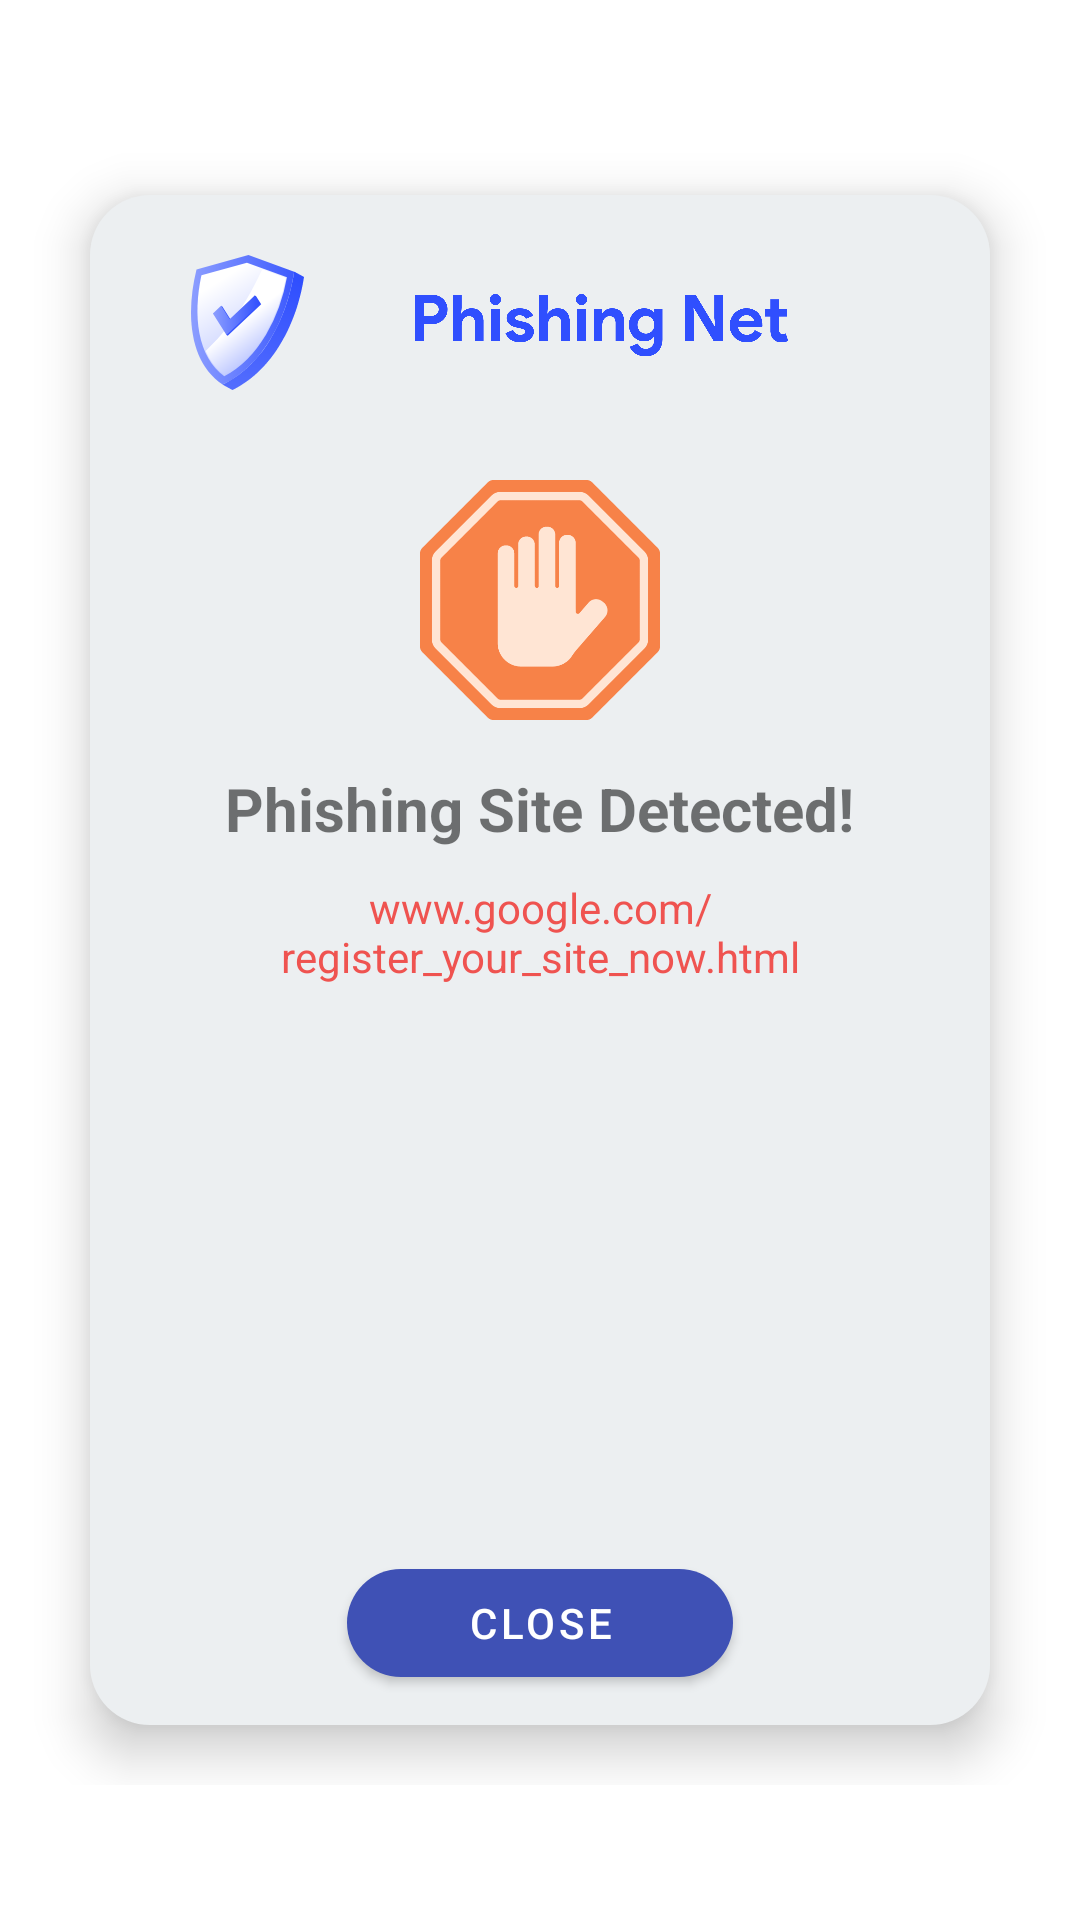

Locate icon controls on the screen. Image size 1080 x 1920, boxes as box=[x1, y1, x2, y2].
warning sign: box=[420, 480, 660, 720]
